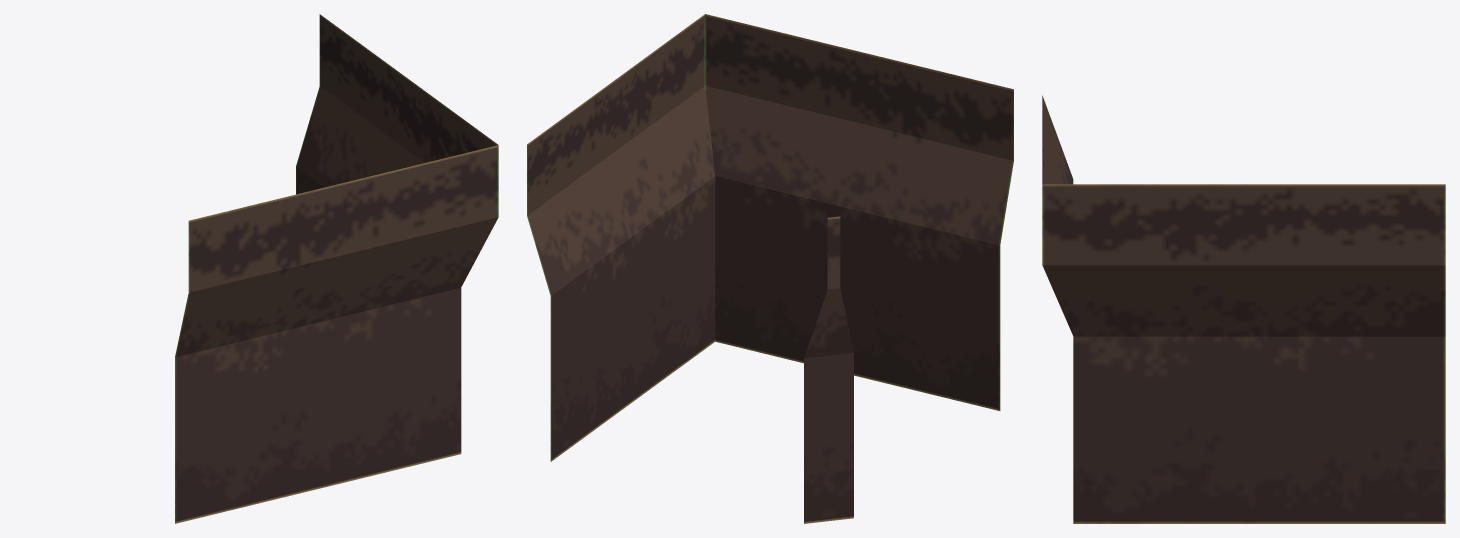
The picture shows the model from 3 angles, left to right: view 1: azimuth 30°, elevation 25°; view 2: azimuth 150°, elevation 25°; view 3: azimuth 270°, elevation 25°; orthographic projection. The views are drawn at different scales.
Visible parts, largest first — view 1: Base_90_Cube.004; view 2: Base_90_Cube.004; view 3: Base_90_Cube.004.
Boxes of the visible parts, box(x1,y1,x2,y2) form: Base_90_Cube.004: box(175, 14, 498, 523); Base_90_Cube.004: box(527, 14, 1013, 523); Base_90_Cube.004: box(1042, 95, 1445, 523).
Size of the model in its own units: 1.95 by 1.88 by 1.95.
